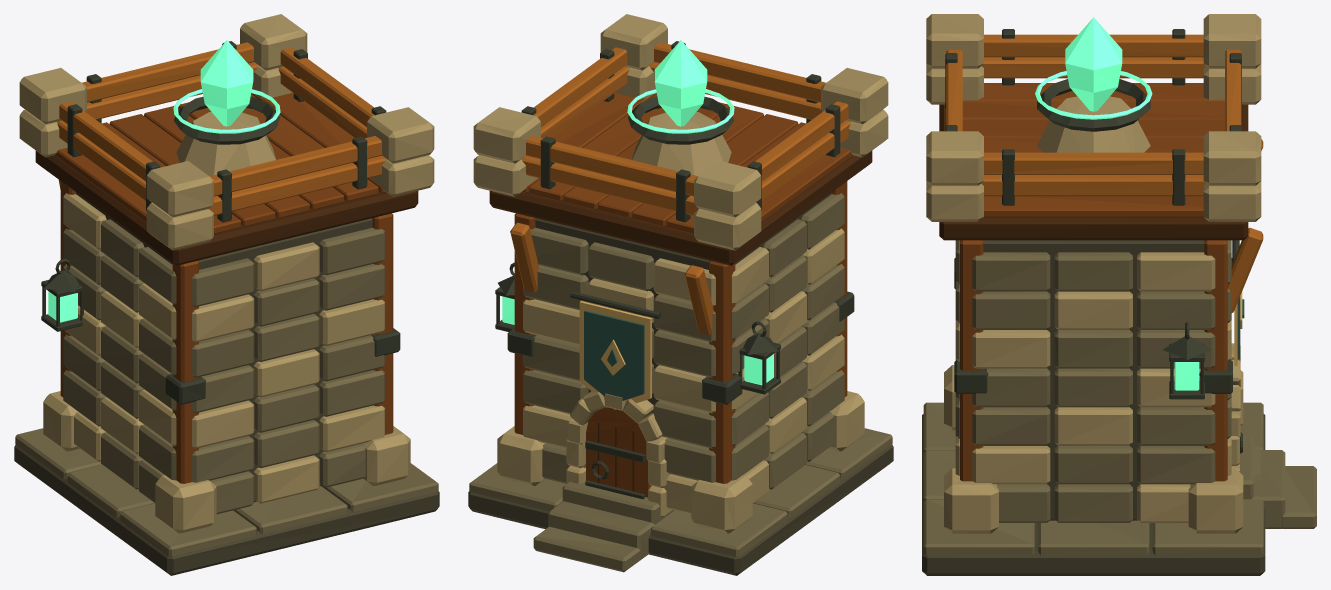
Rendered from tower_mage_level_3.glb.
3 renders of one model, left to right at view 1: azimuth 30°, elevation 25°; view 2: azimuth 150°, elevation 25°; view 3: azimuth 270°, elevation 25°, orthographic. The views are drawn at different scales.
Visible parts, largest first — view 1: body, focus_crystal, charge_ring; view 2: body, focus_crystal, charge_ring; view 3: body, focus_crystal, charge_ring.
Boxes of the visible parts, <box> form: body: <box>14,14,439,575</box>; focus_crystal: <box>200,40,253,126</box>; charge_ring: <box>173,89,280,133</box>; body: <box>468,14,893,575</box>; focus_crystal: <box>654,40,707,126</box>; charge_ring: <box>627,89,734,133</box>; body: <box>922,14,1316,575</box>; focus_crystal: <box>1065,17,1122,111</box>; charge_ring: <box>1035,71,1152,119</box>.
Bounding box in the file's own units: 2.58 × 3.93 × 2.88.
